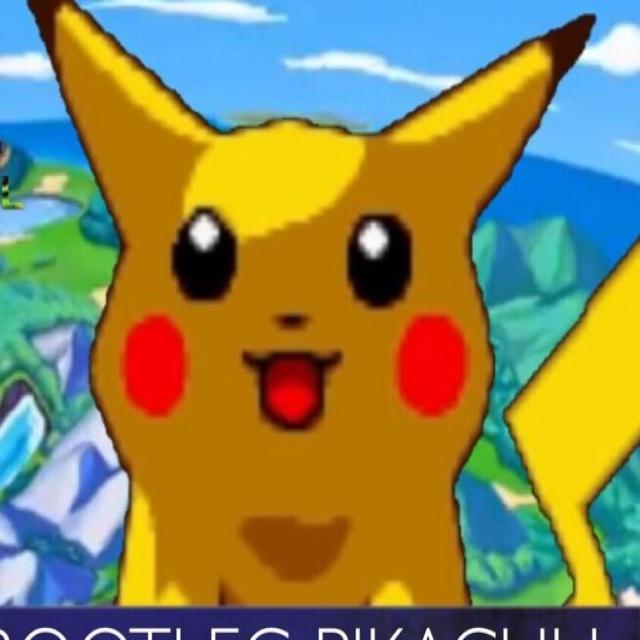pikachu: (26, 0, 640, 610)
